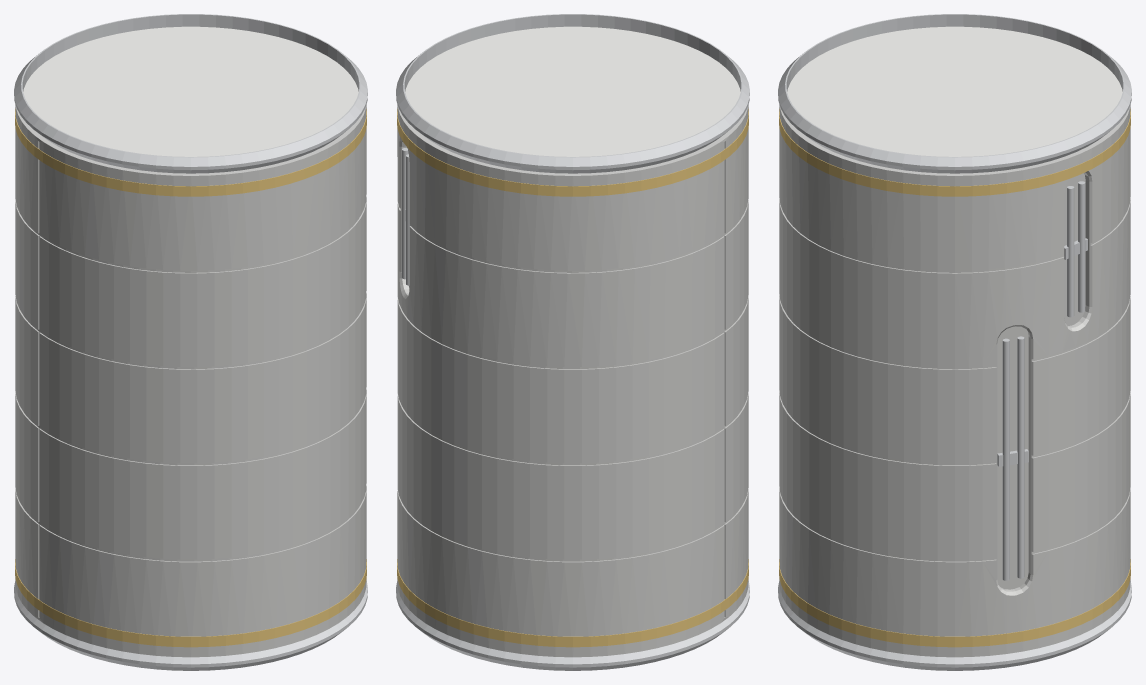
Rendered from ax_tank_12_isru_lox_m.glb.
3 views of the same model, side by side, from view 1: azimuth 30°, elevation 25°; view 2: azimuth 150°, elevation 25°; view 3: azimuth 270°, elevation 25° (orthographic).
Parts seen in each view (by area): view 1: mli_blanket, dome_caps, end_rings, blanket_bands; view 2: mli_blanket, dome_caps, end_rings, blanket_bands, raceway_lines; view 3: mli_blanket, dome_caps, end_rings, blanket_bands, raceway_lines.
Part boxes in pixels (x1,y1,x2,y2): mli_blanket: (15,104,366,657); dome_caps: (23,26,358,156); end_rings: (14,14,367,670); blanket_bands: (15,109,366,647); mli_blanket: (397,104,748,657); dome_caps: (405,26,740,156); end_rings: (396,14,749,670); blanket_bands: (397,109,748,647); raceway_lines: (402,148,410,285); mli_blanket: (779,104,1130,657); dome_caps: (787,26,1122,156); end_rings: (778,14,1131,670); blanket_bands: (779,109,1130,647); raceway_lines: (997,181,1087,580).
Size of the model in its own units: 2.5 by 4 by 2.5.
